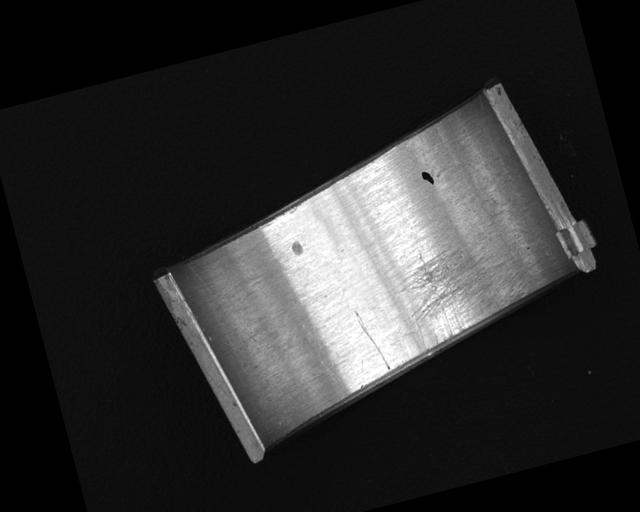blot: (420, 169, 435, 188)
bruise: (289, 240, 304, 256)
nick: (188, 251, 258, 354), (353, 305, 391, 376)
scratch: (389, 231, 536, 357)
